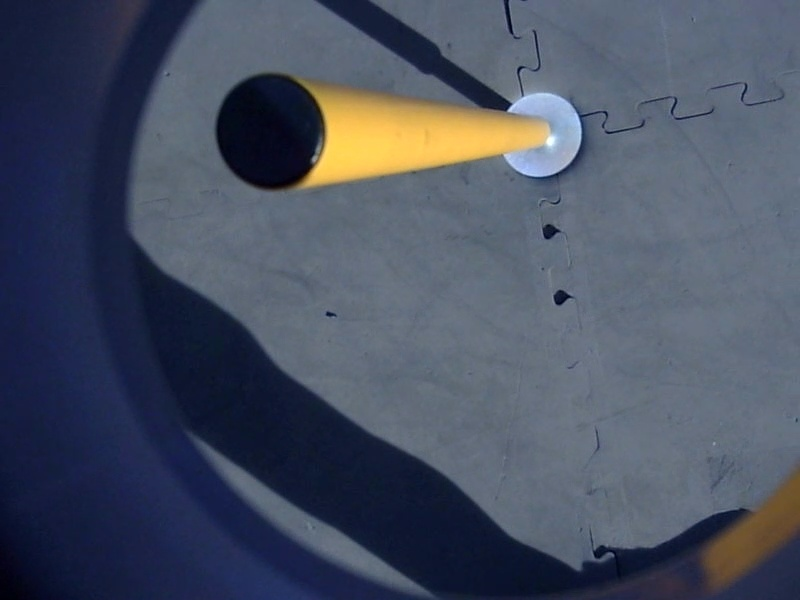tip: (209, 70, 334, 198)
